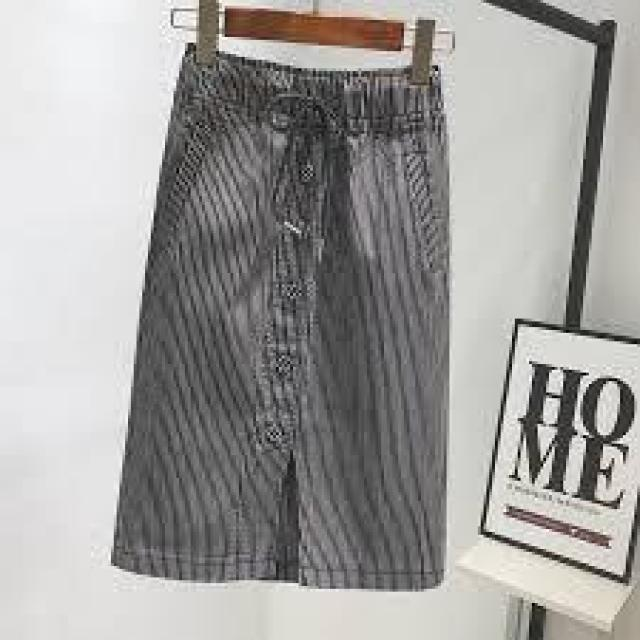skirt: (112, 46, 460, 592)
